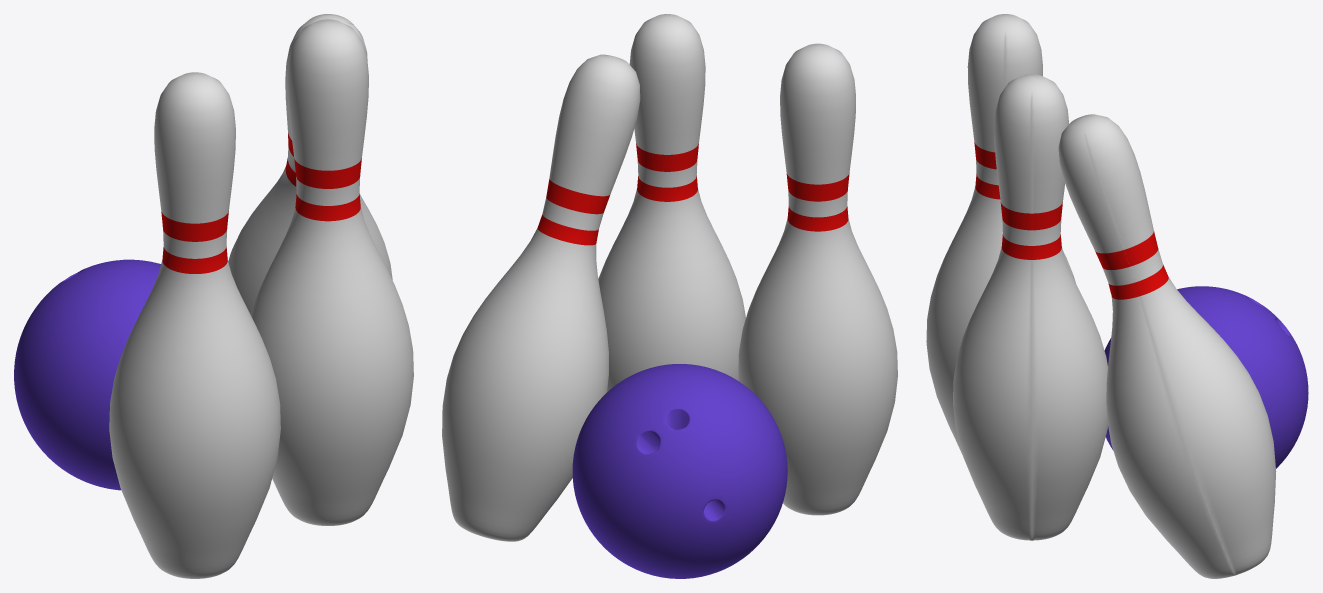
Rendered from bowling.glb.
The picture shows the model from 3 angles, left to right: view 1: azimuth 30°, elevation 25°; view 2: azimuth 150°, elevation 25°; view 3: azimuth 270°, elevation 25°; orthographic projection. The views are drawn at different scales.
Parts seen in each view (by area): view 1: Pin 2_Pin.001_0, Pin 3_Pin.001_0, BowlingBall, Pin 1_Pin.001_0, Pin 2_Stripe.001_0, Pin 3_Stripe.001_0; view 2: Pin 1_Pin.001_0, Pin 2_Pin.001_0, BowlingBall, Pin 3_Pin.001_0, Pin 1_Stripe.001_0, Pin 3_Stripe.001_0, Pin 2_Stripe.001_0; view 3: Pin 1_Pin.001_0, Pin 3_Pin.001_0, Pin 2_Pin.001_0, BowlingBall, Pin 1_Stripe.001_0, Pin 3_Stripe.001_0, Pin 2_Stripe.001_0.
Part boxes in pixels (x1,y1,x2,y2): Pin 2_Pin.001_0: (109,72,280,578); Pin 3_Pin.001_0: (250,19,413,525); BowlingBall: (14,259,160,490); Pin 1_Pin.001_0: (228,14,392,314); Pin 2_Stripe.001_0: (161,211,228,273); Pin 3_Stripe.001_0: (294,158,361,221); Pin 1_Pin.001_0: (442,54,640,541); Pin 2_Pin.001_0: (738,43,897,515); BowlingBall: (572,364,787,578); Pin 3_Pin.001_0: (598,14,745,391); Pin 1_Stripe.001_0: (537,179,609,245); Pin 3_Stripe.001_0: (636,143,698,201); Pin 2_Stripe.001_0: (786,173,849,231); Pin 1_Pin.001_0: (1058,114,1276,578); Pin 3_Pin.001_0: (953,74,1107,540); Pin 2_Pin.001_0: (926,14,1075,454); BowlingBall: (1104,286,1308,468); Pin 1_Stripe.001_0: (1095,231,1168,299); Pin 3_Stripe.001_0: (1000,202,1062,259); Pin 2_Stripe.001_0: (974,142,1000,199).
Bounding box in the file's own units: 2.94 × 3.88 × 2.92.
